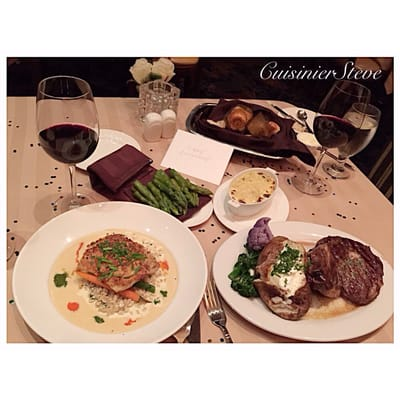curry: (131, 168, 207, 217), (227, 251, 260, 297), (271, 245, 303, 276)
sushi: (11, 200, 208, 342), (222, 167, 278, 217)
